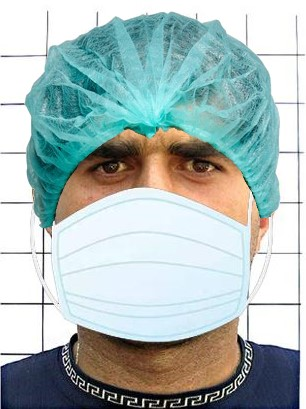with_mask_and_cap: (25, 7, 280, 344)
